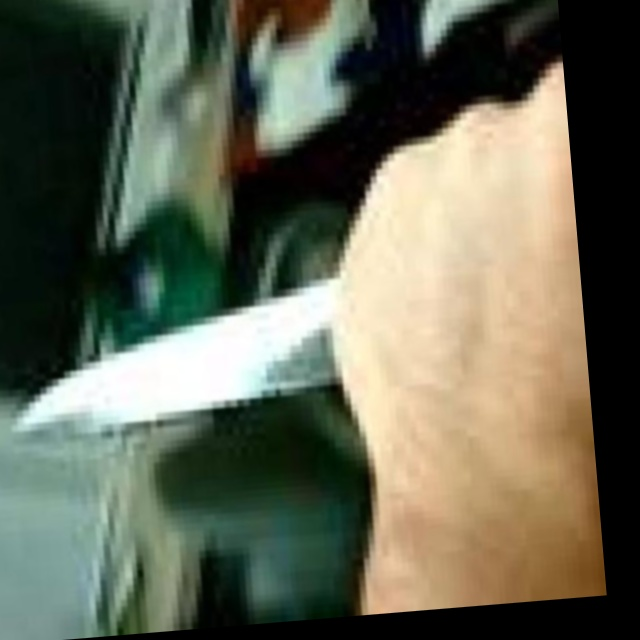Sharp-Object: (1, 276, 346, 436)
